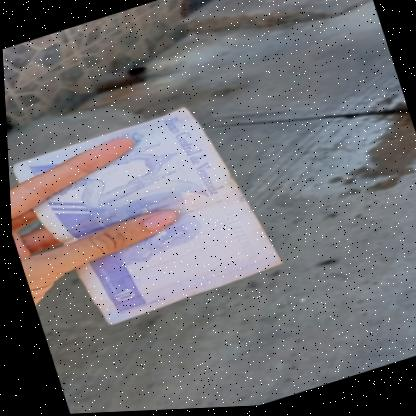ten-back-vef: (4, 93, 287, 342)
